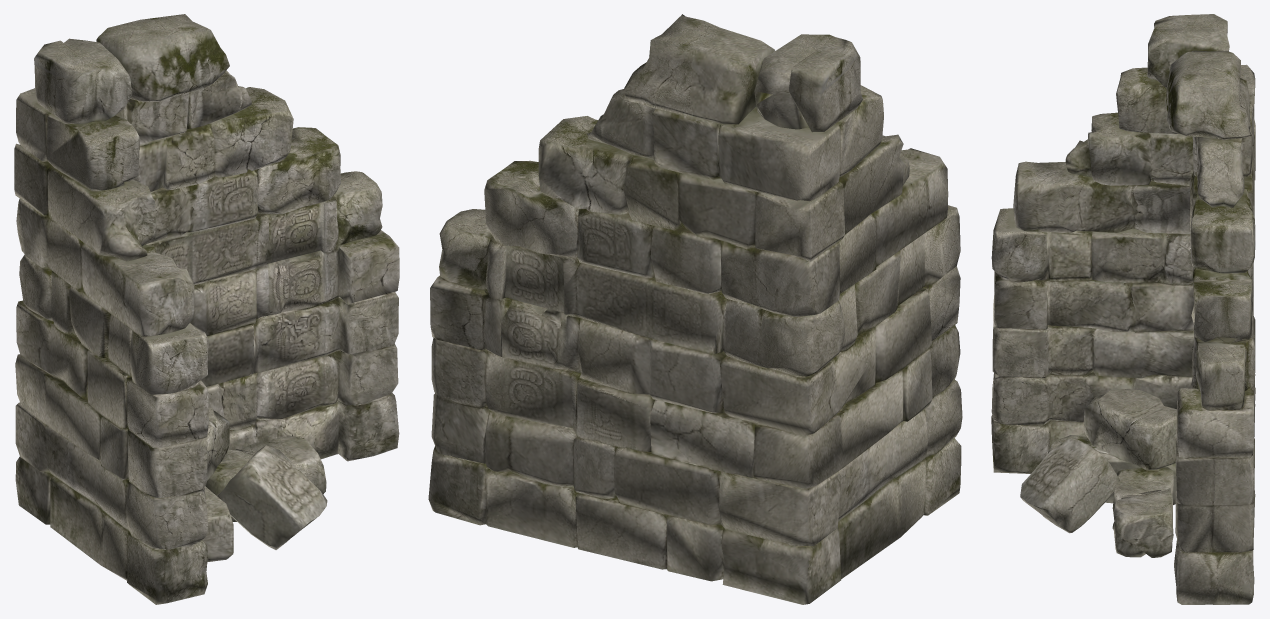
The model's file is ruin_wall_corner_ruin.glb.
3 views of the same model, side by side, from view 1: azimuth 30°, elevation 25°; view 2: azimuth 150°, elevation 25°; view 3: azimuth 270°, elevation 25° (orthographic). The views are drawn at different scales.
Bounding box in the file's own units: 0.7383 × 0.9526 × 0.522.
Materials: 1 (1 with a texture image).
